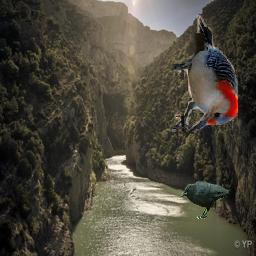Crow: (181, 181, 230, 219)
Woodpecker: (172, 16, 238, 133)
